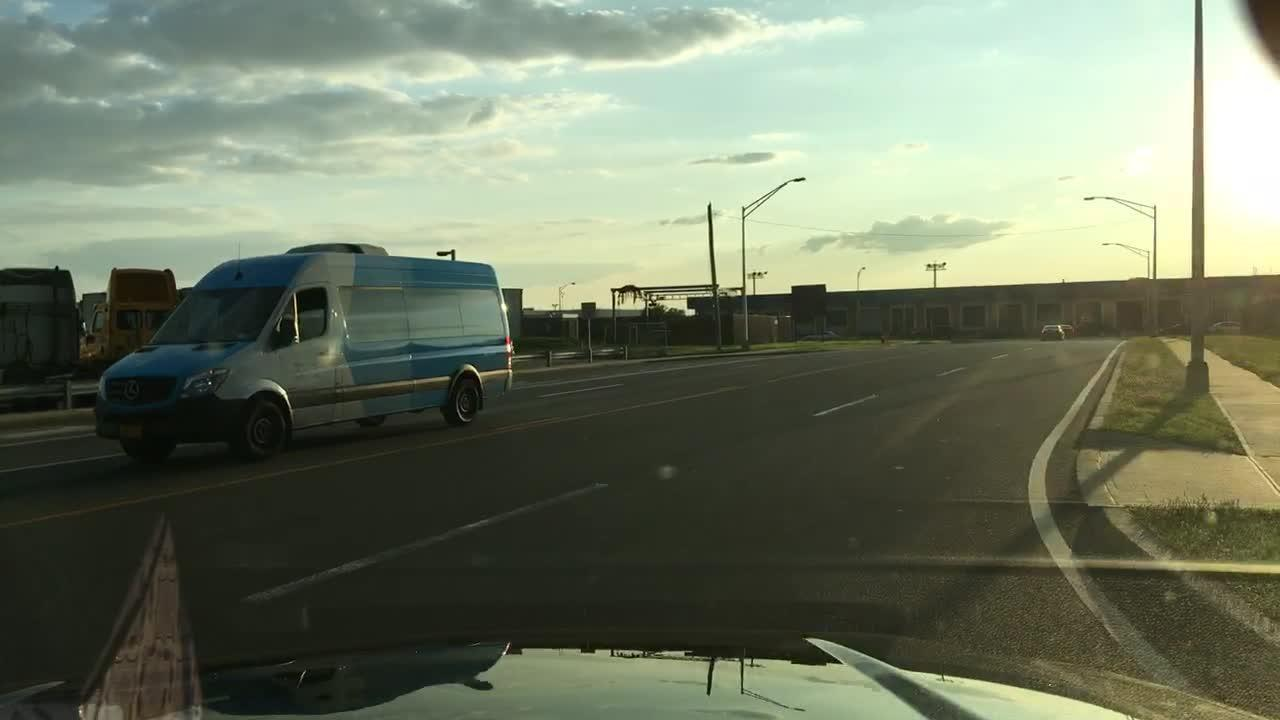Mercedes: (113, 375, 146, 402)
